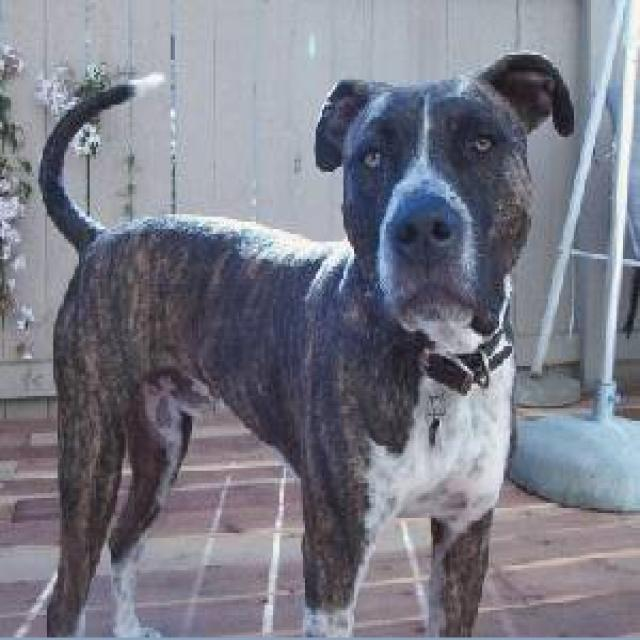dog-american_pit_bull_terrier: (30, 42, 578, 635)
